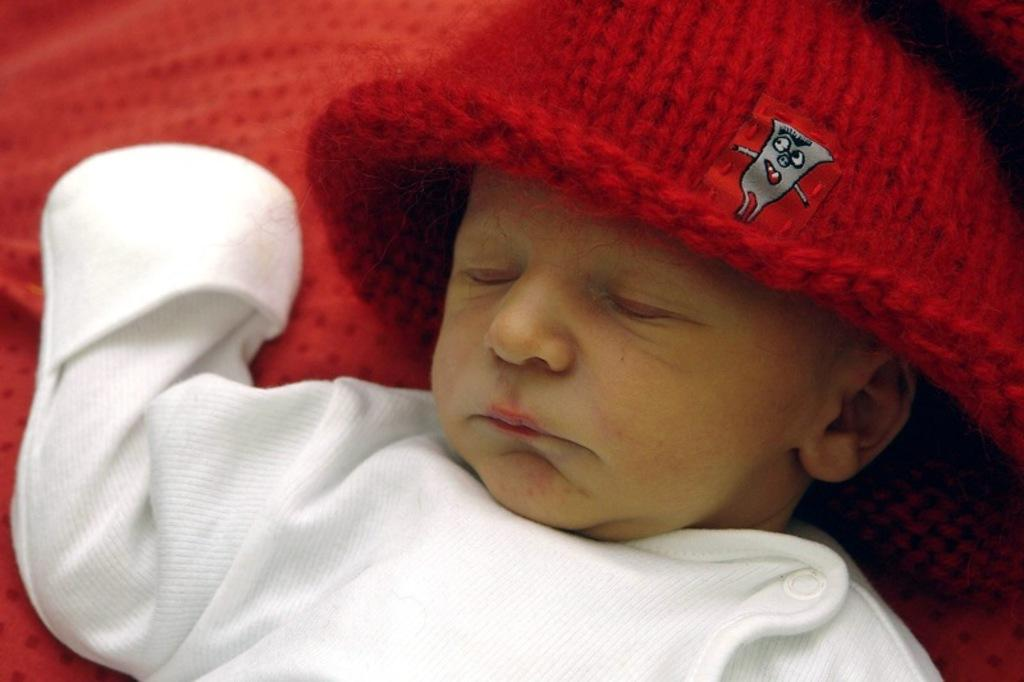Hat: (302, 0, 1022, 605)
